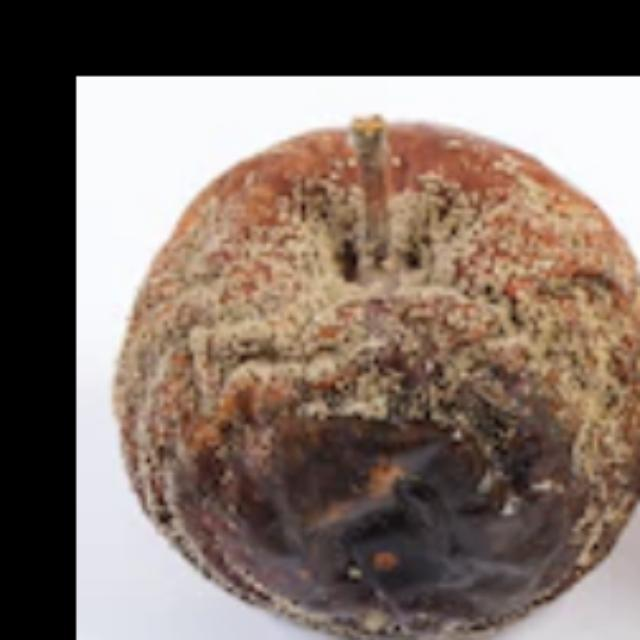Apel Tidak Segar: (112, 114, 640, 640)
